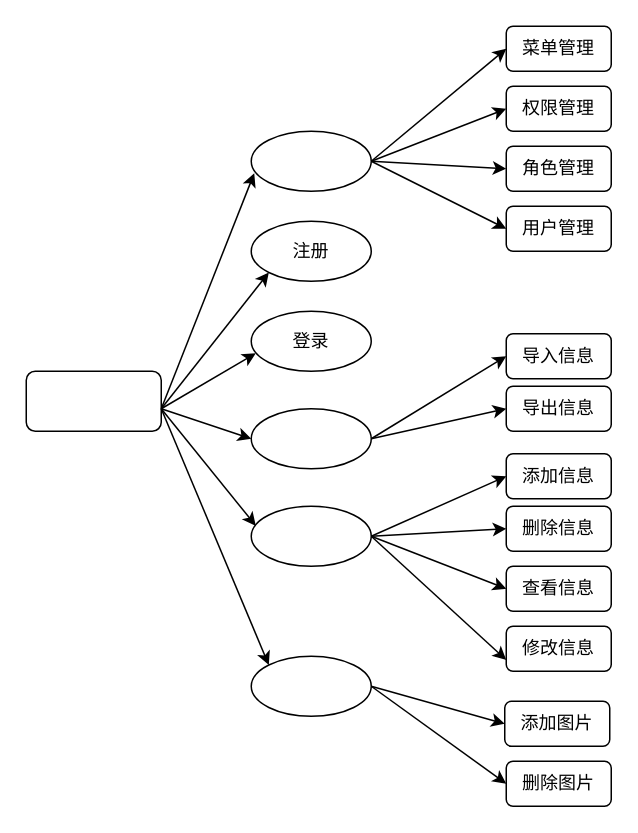
The diagram is 638 pixels wide and 833 high, and some of its shapes have lost their labels. Each missing label, with the centre of its shape:
信息管理: (310,535)
图片管理: (310,685)
导出管理: (310,438)
管理员: (93,400)
账户管理: (310,160)
